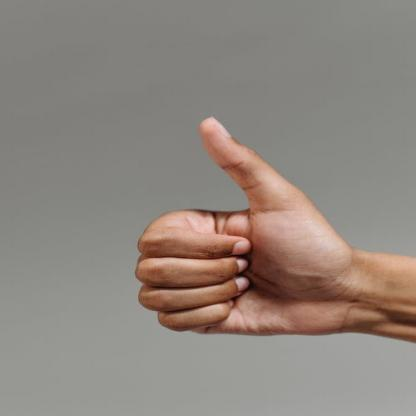Thumbs-Up: (132, 113, 361, 349)
